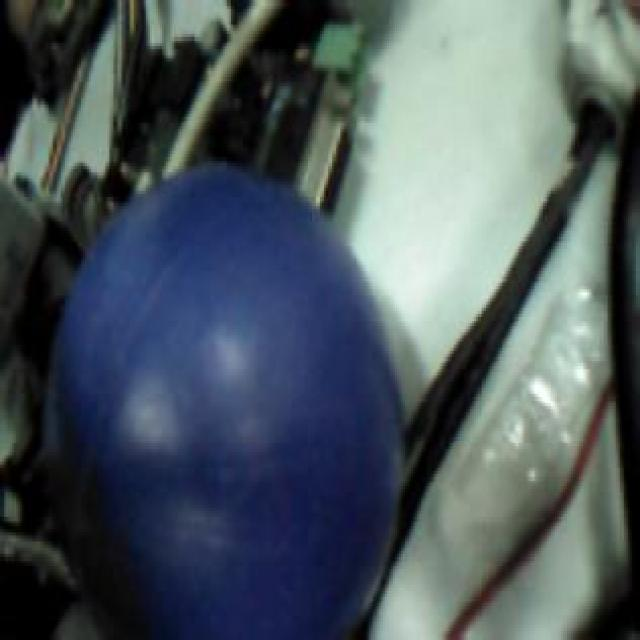BallPurple: (54, 169, 406, 640)
